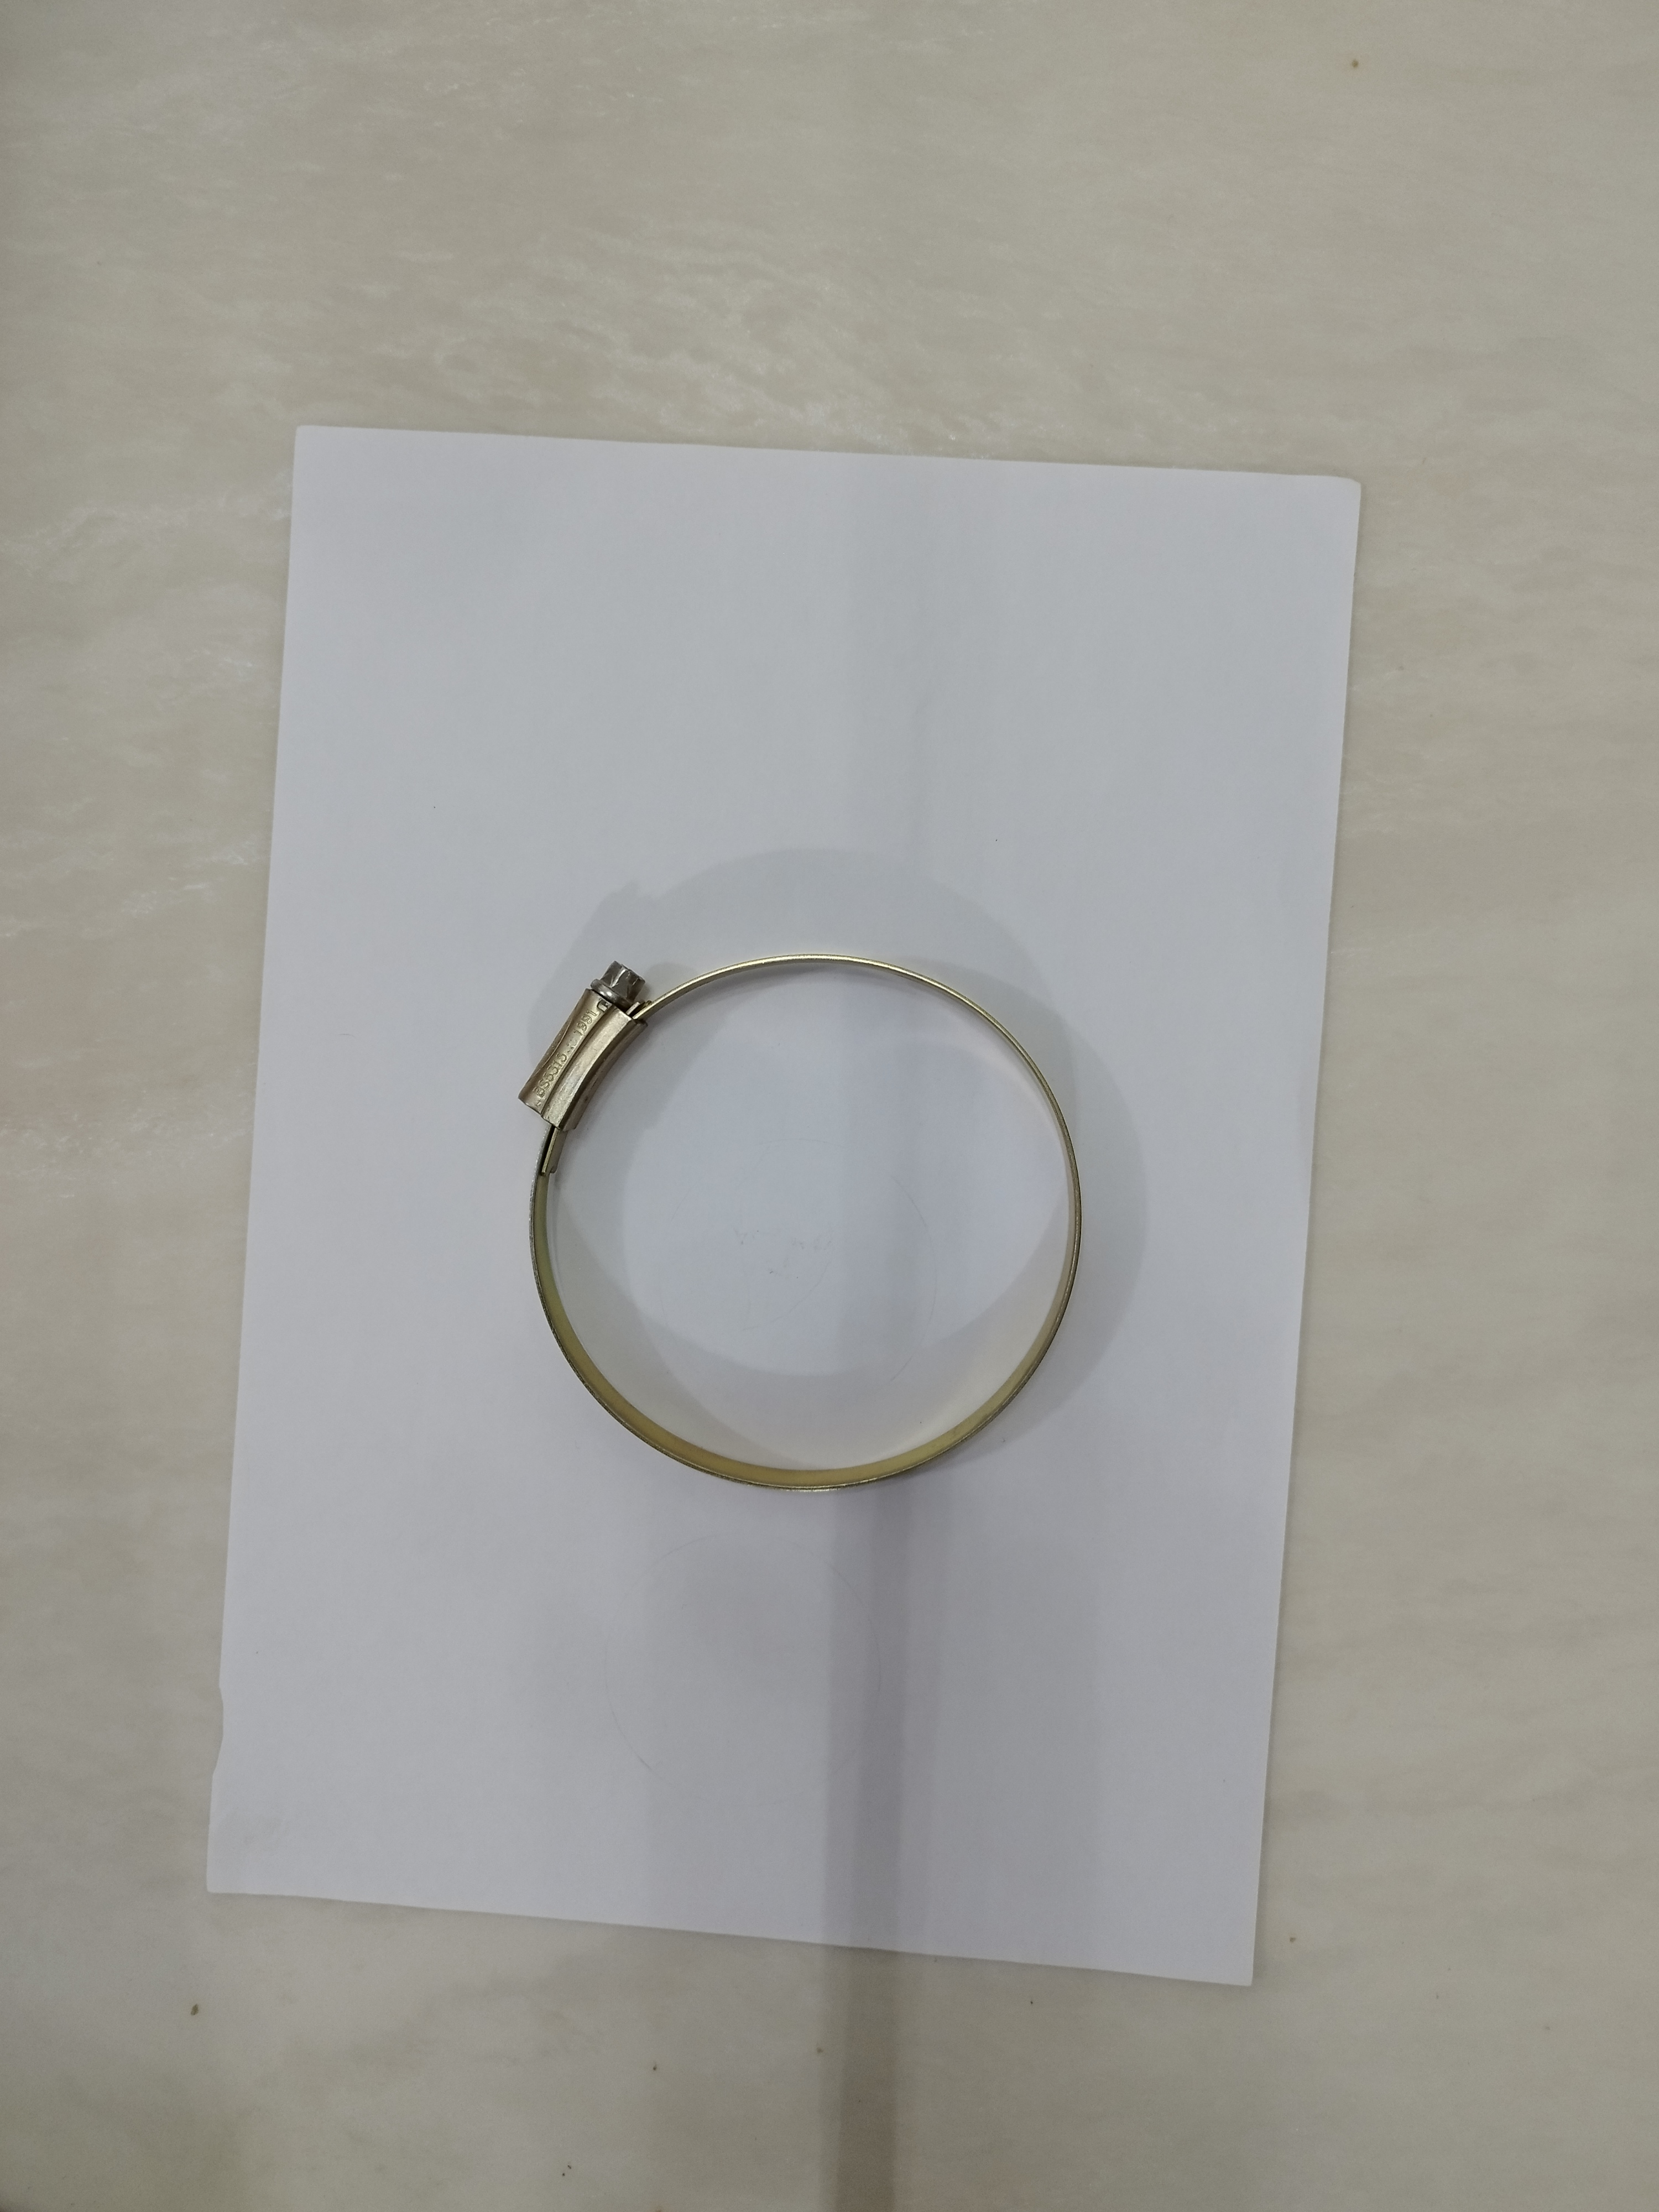ring_clamp: (497, 920, 1101, 1507)
